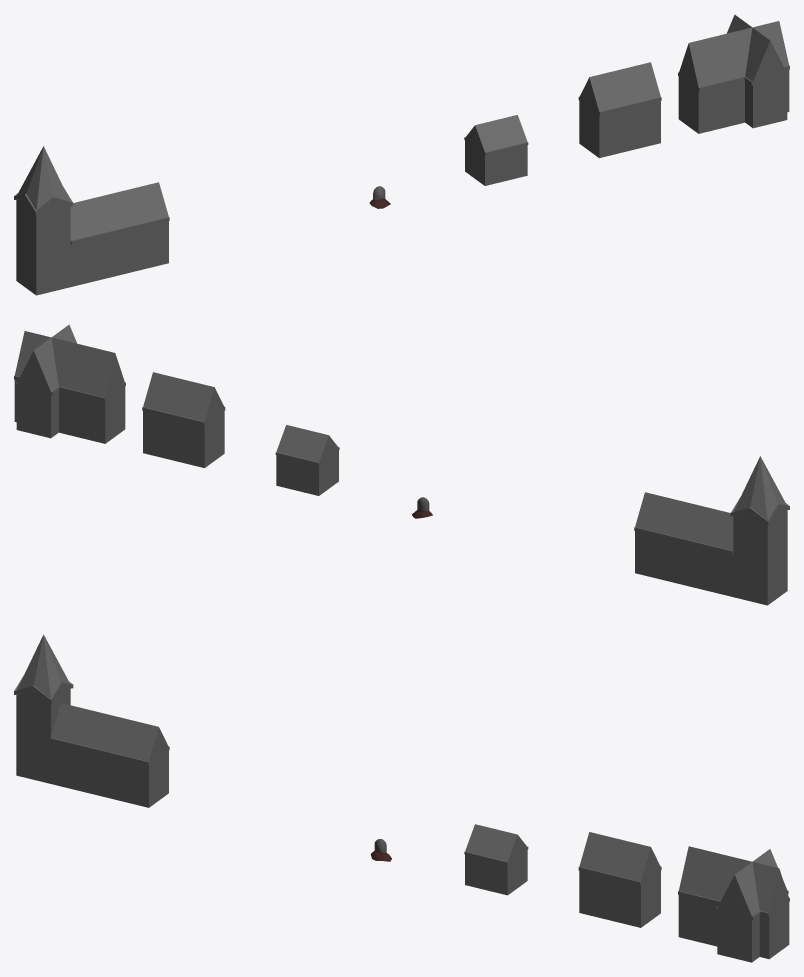
The model's file is gravestone.glb.
3 views of the same model, one above another, from view 1: azimuth 30°, elevation 25°; view 2: azimuth 150°, elevation 25°; view 3: azimuth 330°, elevation 25° (orthographic).
Parts seen in each view (by area): view 1: Church_lofi, Hus_big_lofi, Hus_med_lofi, Hus_small_lofi; view 2: Church_lofi, Hus_big_lofi, Hus_med_lofi, Hus_small_lofi; view 3: Church_lofi, Hus_big_lofi, Hus_med_lofi, Hus_small_lofi.
Boxes of the visible parts, left/top/right/bottom form: Church_lofi: left=14, top=146, right=169, bottom=295; Hus_big_lofi: left=678, top=14, right=789, bottom=133; Hus_med_lofi: left=578, top=62, right=661, bottom=158; Hus_small_lofi: left=464, top=115, right=528, bottom=185; Church_lofi: left=634, top=456, right=789, bottom=605; Hus_big_lofi: left=14, top=324, right=125, bottom=443; Hus_med_lofi: left=142, top=372, right=225, bottom=468; Hus_small_lofi: left=275, top=425, right=339, bottom=495; Church_lofi: left=14, top=634, right=169, bottom=807; Hus_big_lofi: left=678, top=846, right=789, bottom=962; Hus_med_lofi: left=578, top=832, right=661, bottom=927; Hus_small_lofi: left=464, top=824, right=528, bottom=895.
Bounding box in the file's own units: 66.62 × 12.03 × 5.44.
Materials: 2 (1 with a texture image).
